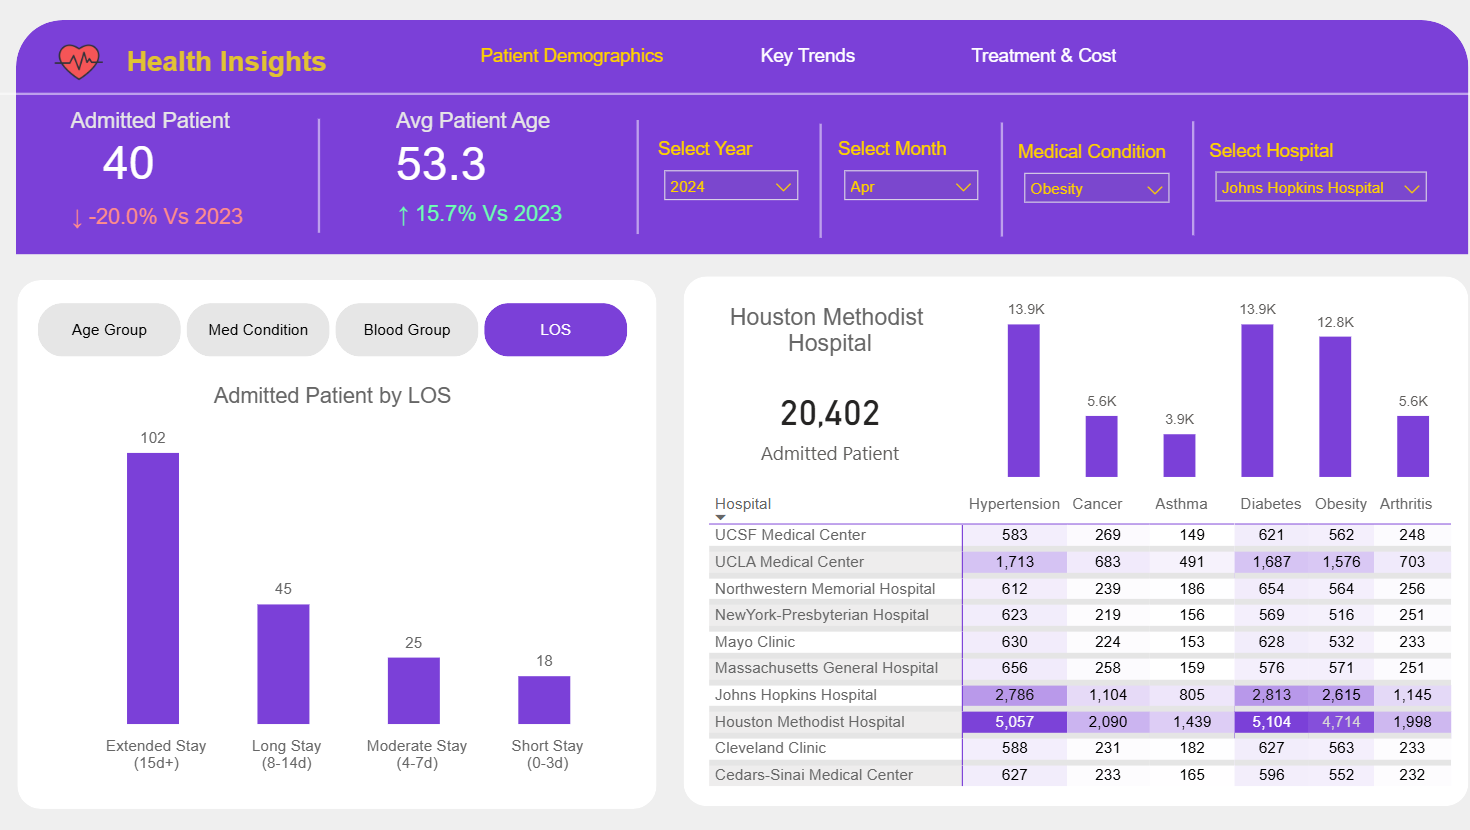

The page's visual inventory and layout, read from the dashboard file:
{"tool":"powerbi","page":{"name":"Patient Demographics","canvas":[1280,720],"ordinal":0},"visuals":[{"type":"shape","box":[17.3,21.6,1249.4,202],"z":0},{"type":"textbox","box":[107.8,37.8,201.8,40.4],"z":0,"group":"g2"},{"type":"shape","box":[26.3,91.8,239.5,121.2],"z":0,"group":"g5"},{"type":"group","id":"g1","title":"Group 4","box":[303.5,98.1,240,110.8],"z":0,"group":"g3"},{"type":"shape","box":[303.5,106.3,240,102.7],"z":0,"group":"g1"},{"type":"image","box":[38,31.7,67.3,51.4],"z":1000,"group":"g2"},{"type":"shape","box":[0,72.1,1279.7,26],"z":1000},{"type":"multiRowCard","title":"Avg Patient Age","fields":{"Values":["_Measure.Avg Patient Age"]},"box":[344.5,98.1,171.6,76.5],"z":1000,"group":"g1"},{"type":"card","title":"Admitted Patients","fields":{"Values":["_Measure.Admitted Patient"]},"box":[33.5,117.8,167.4,50.5],"z":1000,"group":"g5"},{"type":"group","id":"g2","title":"Group 1","box":[38,31.7,271.5,51.4],"z":2000},{"type":"multiRowCard","fields":{"Values":["_Measure.Avg Patient Age YoY"]},"box":[341.6,173.2,187.6,31.8],"z":2000,"group":"g1"},{"type":"multiRowCard","fields":{"Values":["_Measure.Admission YoY"]},"box":[60.6,175.8,186.1,31.7],"z":2000,"group":"g5"},{"type":"slicer","title":"Select Year","fields":{"Values":["DimDate.Year"]},"box":[564.1,120.6,135.6,60.6],"z":3000},{"type":"slicer","title":"Select Month","fields":{"Values":["DimDate.Month Name"]},"box":[719.2,120.6,135.6,60.6],"z":4000},{"type":"slicer","title":"Medical Condition","fields":{"Values":["DimMedicalCondition.Medical Condition"]},"box":[874.3,122.3,145.5,59.9],"z":5000},{"type":"group","id":"g3","title":"Group 2","box":[303.5,98.1,240,110.8],"z":6000},{"type":"shape","box":[268.4,106.8,18,98.1],"z":7000},{"type":"shape","box":[542.5,107.8,18,98.1],"z":8000},{"type":"shape","box":[699.7,111.1,18.8,98.1],"z":9000},{"type":"shape","box":[855.6,110,18.8,98.1],"z":10000},{"type":"shape","box":[591.5,242.4,675.2,455.9],"z":11000},{"type":"shape","box":[18.2,244.7,550,455],"z":12000,"group":"g4"},{"type":"pivotTable","fields":{"Rows":["HealthStatData.Hospital"],"Columns":["DimMedicalCondition.Medical Condition"],"Values":["_Measure.Admitted Patient"]},"box":[608.8,424.2,650,265],"z":12000},{"type":"group","id":"g4","title":"Group 3","box":[18.2,244.7,550,455],"z":13000},{"type":"clusteredColumnChart","fields":{"Category":["HealthStatData.LOS Group"],"Y":["_Measure.Admitted Patient"]},"box":[29.4,328.9,520.8,347.7],"z":13000,"group":"g4"},{"type":"advancedSlicerVisual","fields":{"Values":["Parameter.Parameter"]},"box":[30.7,259.8,518,56.3],"z":14000,"group":"g4"},{"type":"card","fields":{"Values":["_Measure.Admitted Patient"]},"box":[608.8,327.5,217.9,80.8],"z":14000},{"type":"card","fields":{"Values":["Min(HealthStatData.Hospital)"]},"box":[608.8,253.9,217.9,69.3],"z":15000},{"type":"clusteredColumnChart","fields":{"Y":["_Measure.Admitted Patient"],"Category":["DimMedicalCondition.Medical Condition"]},"box":[865.7,251,375.1,170.2],"z":16000},{"type":"slicer","title":"Select Hospital","fields":{"Values":["HealthStatData.Hospital"]},"box":[1038.8,121.6,202,60.6],"z":17000},{"type":"shape","box":[1020,108.9,18.8,98.1],"z":18000},{"type":"group","id":"g5","title":"Group 5","box":[26.3,91.8,239.5,121.2],"z":19000},{"type":"textbox","box":[59.2,92.4,171.7,33],"z":19002,"group":"g5"},{"type":"pageNavigator","box":[398.6,30.6,600.4,44],"z":20000}]}

Visuals, with their boxes in screenshot pixels (x1, y1, x2, y2), scaled from the page's 1280x720 canvas onto the 1470x830 screenshot:
shape: box(20, 25, 1455, 258)
textbox: box(124, 44, 356, 90)
shape: box(30, 106, 305, 246)
"Group 4" group: box(349, 113, 624, 241)
shape: box(349, 123, 624, 241)
image: box(44, 37, 121, 96)
shape: box(0, 83, 1469, 113)
"Avg Patient Age" multiRowCard: box(396, 113, 593, 201)
"Admitted Patients" card: box(38, 136, 231, 194)
"Group 1" group: box(44, 37, 355, 96)
multiRowCard - _Measure.Avg Patient Age YoY: box(392, 200, 608, 236)
multiRowCard - _Measure.Admission YoY: box(70, 203, 283, 239)
"Select Year" slicer: box(648, 139, 804, 209)
"Select Month" slicer: box(826, 139, 982, 209)
"Medical Condition" slicer: box(1004, 141, 1171, 210)
"Group 2" group: box(349, 113, 624, 241)
shape: box(308, 123, 329, 236)
shape: box(623, 124, 644, 237)
shape: box(804, 128, 825, 241)
shape: box(983, 127, 1004, 240)
shape: box(679, 279, 1455, 805)
shape: box(21, 282, 653, 807)
pivotTable - HealthStatData.Hospital x DimMedicalCondition.Medical Condition: box(699, 489, 1446, 794)
"Group 3" group: box(21, 282, 653, 807)
clusteredColumnChart - HealthStatData.LOS Group x _Measure.Admitted Patient: box(34, 379, 632, 780)
advancedSlicerVisual - Parameter.Parameter: box(35, 299, 630, 364)
card - _Measure.Admitted Patient: box(699, 378, 949, 471)
card - Min(HealthStatData.Hospital): box(699, 293, 949, 373)
clusteredColumnChart - _Measure.Admitted Patient x DimMedicalCondition.Medical Condition: box(994, 289, 1425, 486)
"Select Hospital" slicer: box(1193, 140, 1425, 210)
shape: box(1171, 126, 1193, 239)
"Group 5" group: box(30, 106, 305, 246)
textbox: box(68, 107, 265, 145)
pageNavigator: box(458, 35, 1147, 86)
